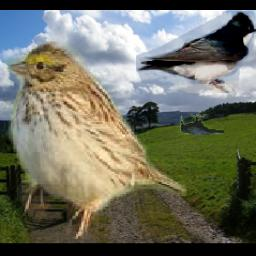Crow: (181, 115, 225, 136)
Sparrow: (0, 38, 186, 240)
Swallow: (136, 11, 256, 93)
